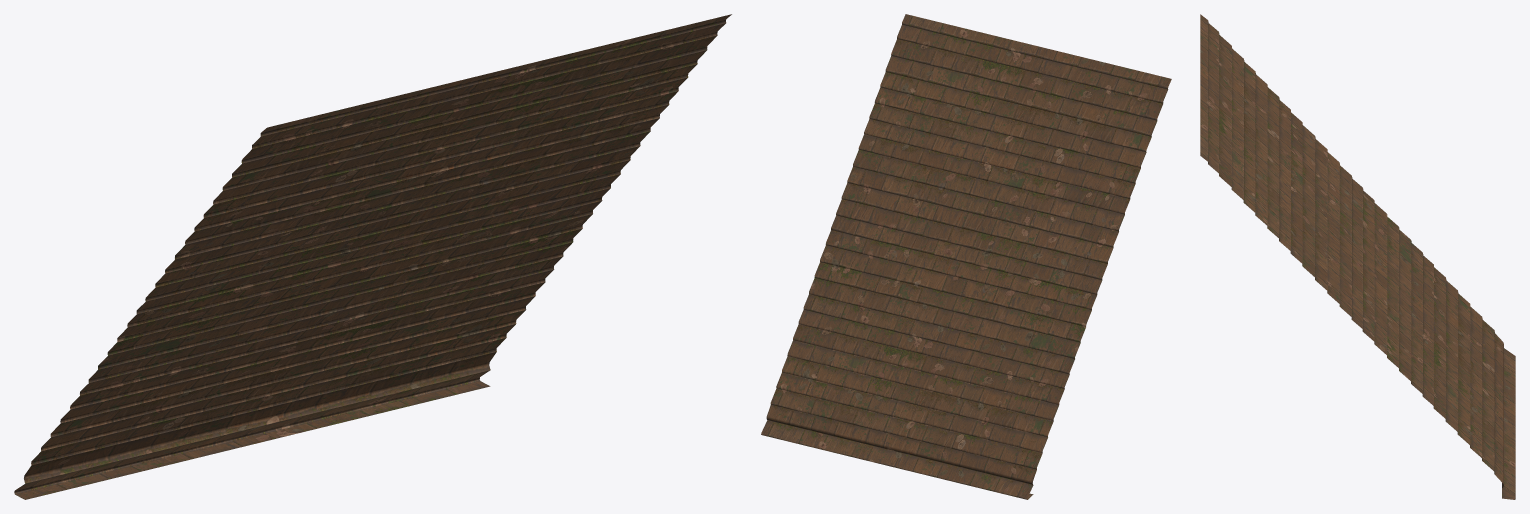
The model's file is SM_ChurchRoof.fbx.
The picture shows the model from 3 angles, left to right: view 1: azimuth 30°, elevation 25°; view 2: azimuth 150°, elevation 25°; view 3: azimuth 270°, elevation 25°; orthographic projection. The views are drawn at different scales.
Parts seen in each view (by area): view 1: SM_ChurchRoof_LOD0; view 2: SM_ChurchRoof_LOD0; view 3: SM_ChurchRoof_LOD0.
Boxes of the visible parts, x1,y1,x2,y2 form: SM_ChurchRoof_LOD0: (14,14,731,499); SM_ChurchRoof_LOD0: (761,14,1171,499); SM_ChurchRoof_LOD0: (1200,14,1515,499).
Bounding box in the file's own units: 400 × 376 × 453.
1 material, 1 textured.
